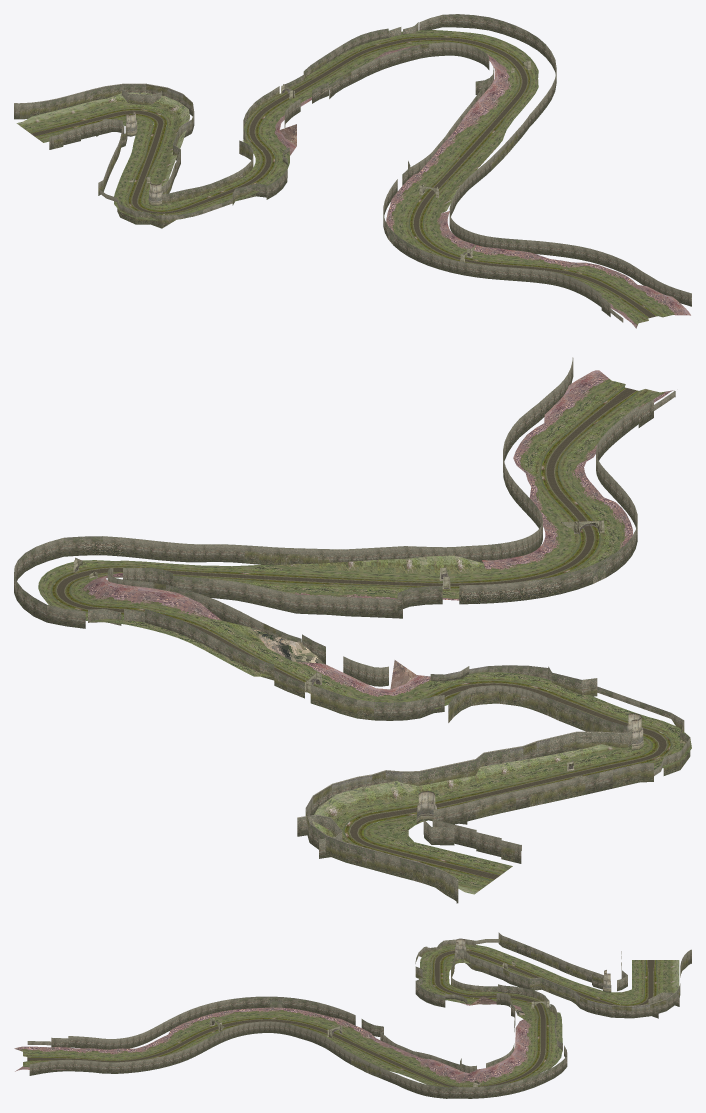
Rendered from stage-cast-env.glb.
3 renders of one model, top to bottom at view 1: azimuth 30°, elevation 25°; view 2: azimuth 150°, elevation 25°; view 3: azimuth 270°, elevation 25°, orthographic. The views are drawn at different scales.
Parts seen in each view (by area): view 1: env part 1, env part 0; view 2: env part 1, env part 0; view 3: env part 1, env part 0.
Boxes of the visible parts, left/top/right/bottom form: env part 1: left=14, top=14, right=691, bottom=328; env part 0: left=30, top=36, right=657, bottom=318; env part 1: left=14, top=357, right=691, bottom=903; env part 0: left=52, top=387, right=670, bottom=880; env part 1: left=14, top=932, right=691, bottom=1098; env part 0: left=27, top=949, right=656, bottom=1087.
Bounding box in the file's own units: 1583 × 264 × 2424.
Materials: 23 (23 with a texture image).
